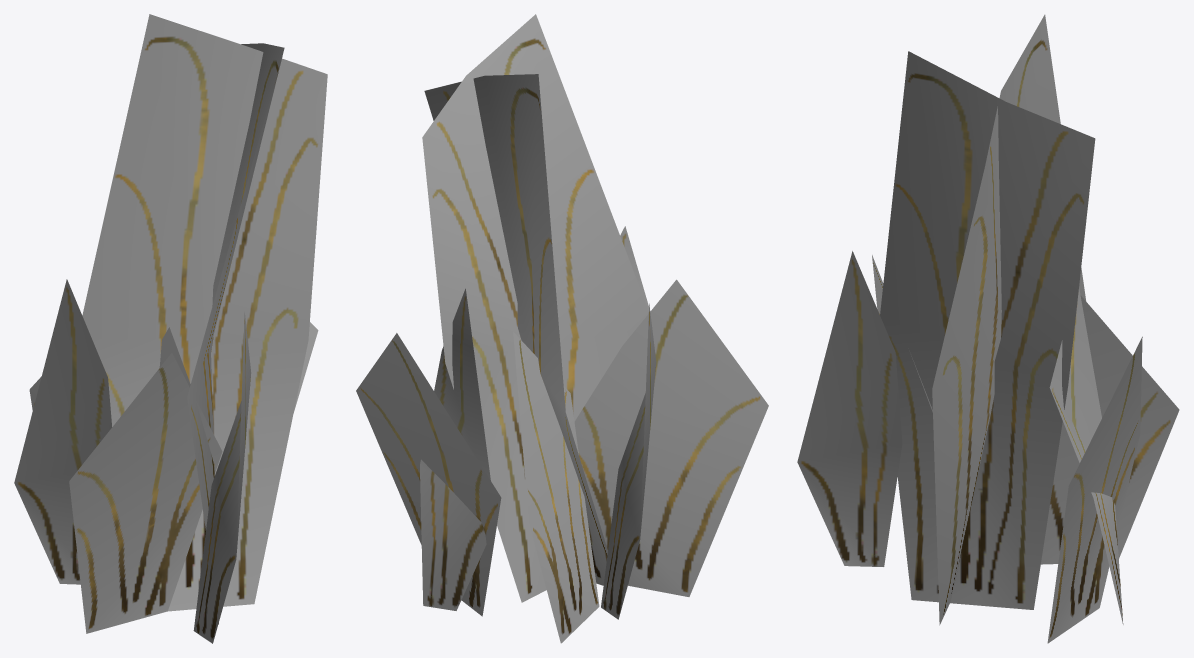
Rendered from SM_Grass_var2.fbx.
The picture shows the model from 3 angles, left to right: view 1: azimuth 30°, elevation 25°; view 2: azimuth 150°, elevation 25°; view 3: azimuth 270°, elevation 25°; orthographic projection. The views are drawn at different scales.
Parts seen in each view (by area): view 1: SM_Grass_var2_LOD0; view 2: SM_Grass_var2_LOD0; view 3: SM_Grass_var2_LOD0.
Part boxes in pixels (left/top/right/bottom): SM_Grass_var2_LOD0: left=14, top=14, right=327, bottom=643; SM_Grass_var2_LOD0: left=356, top=14, right=768, bottom=643; SM_Grass_var2_LOD0: left=797, top=14, right=1179, bottom=643.
Size of the model in its own units: 40.08 by 37.58 by 63.43.
